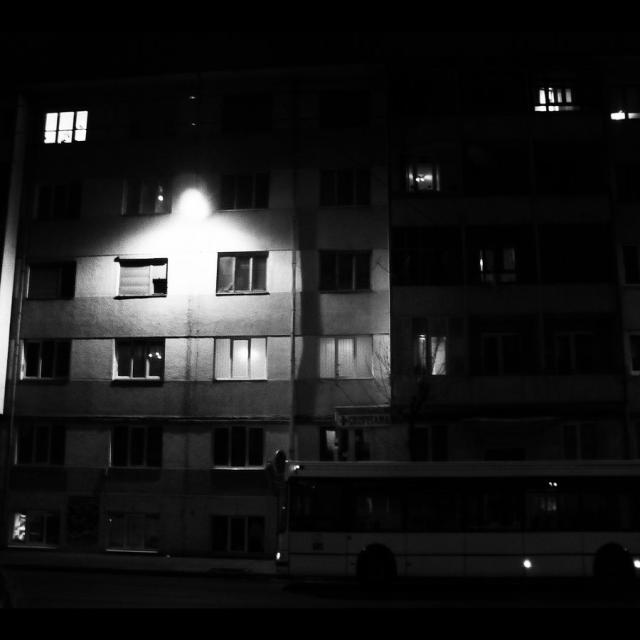Bus: (238, 427, 640, 615)
